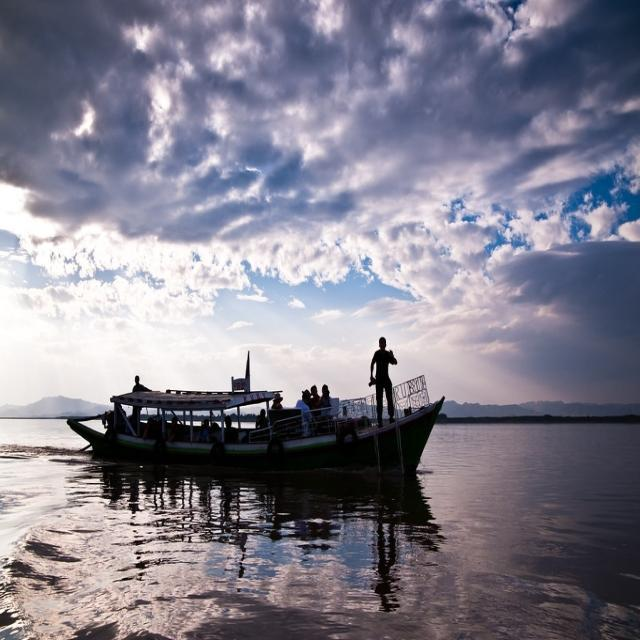boat: (53, 389, 360, 488)
